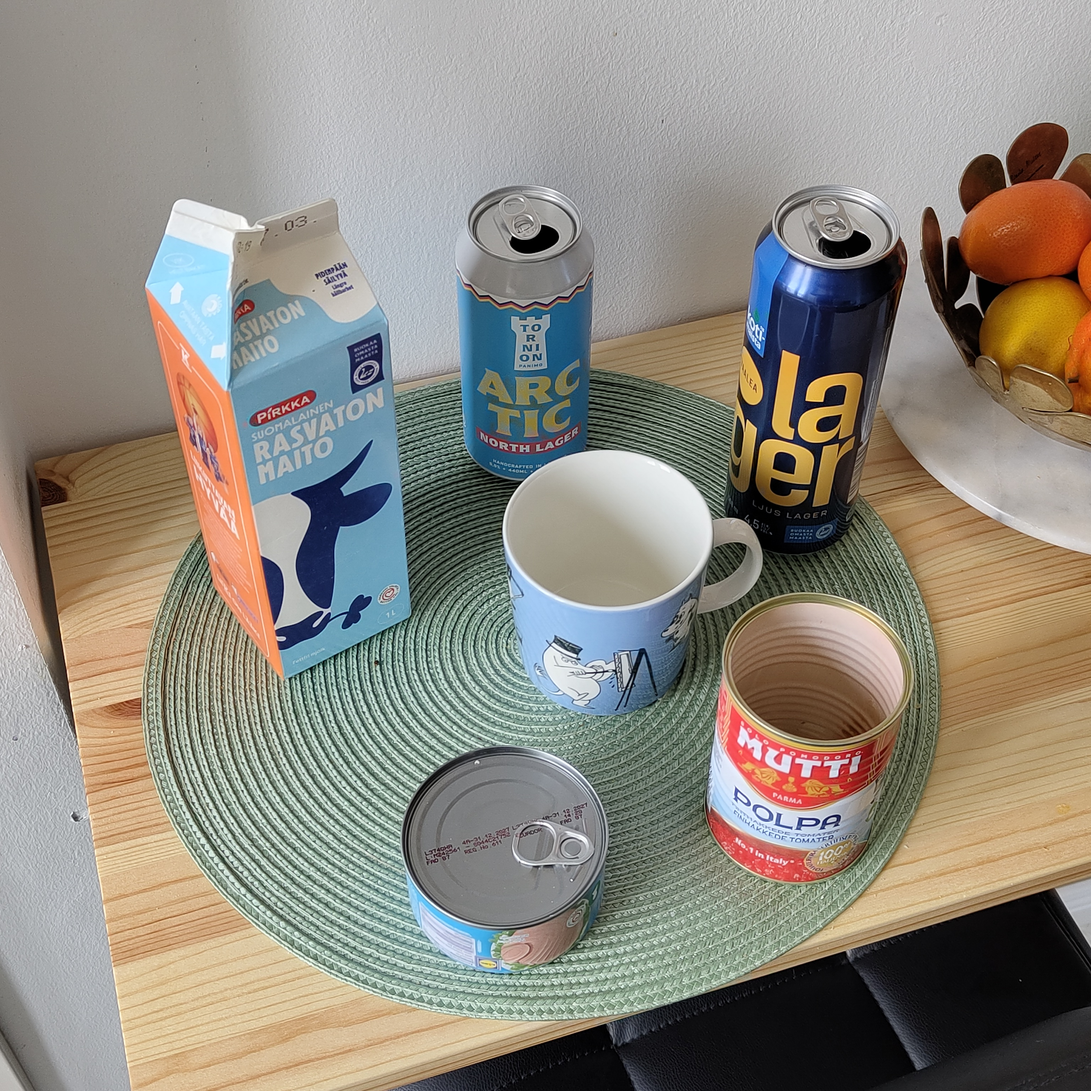Dryckeskartong: (144, 198, 413, 681)
Konservburk: (703, 592, 914, 885), (400, 743, 610, 974)
Pantburk: (724, 184, 908, 556), (456, 185, 596, 483)
